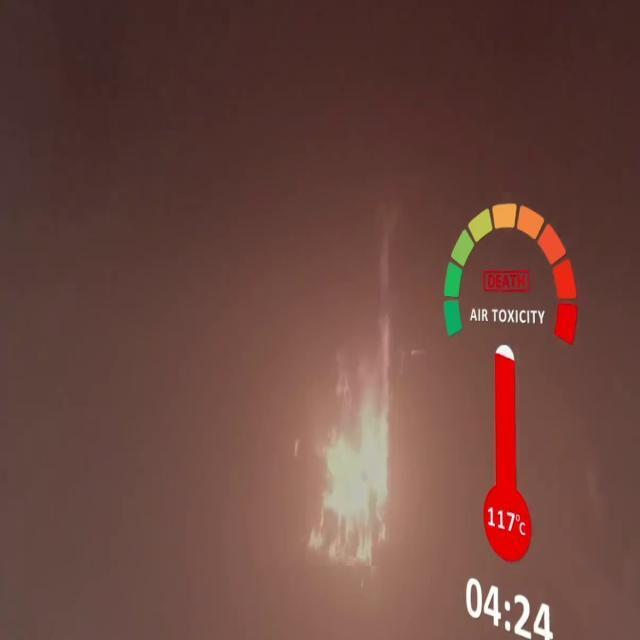fire: (308, 393, 397, 566)
